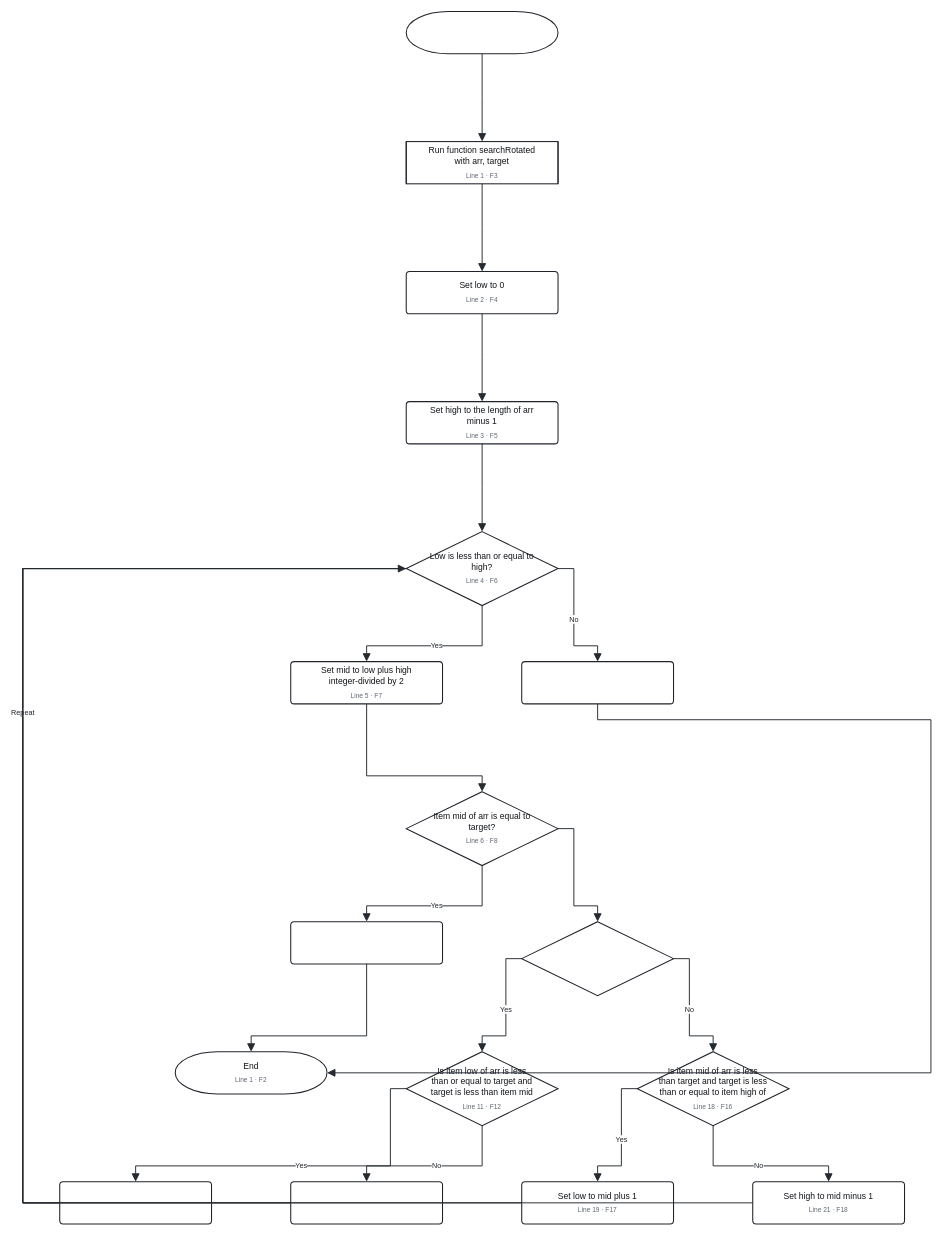
This 950x1236 diagram has some shape labels left out. The shapes that lost their labels are listed below. From the top down, each one's centre as x and y in pixels, then its label:
At point 481,32: "Start Line 1 · F1".
At point 597,682: "Return negative 1 Line 25 · F19".
At point 366,942: "Return mid Line 7 · F9".
At point 597,958: "Item low of arr is less than or equal to item mid of arr? Line 9 · F10".
At point 135,1202: "Set high to mid minus 1 Line 12 · F13".
At point 366,1202: "Set low to mid plus 1 Line 14 · F14".
